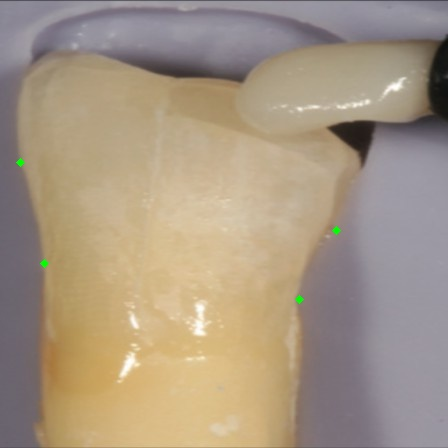coin_1: (299, 299, 319, 319)
coin_2: (336, 230, 356, 250)
coin_3: (44, 263, 64, 283)
coin_4: (20, 162, 40, 182)
